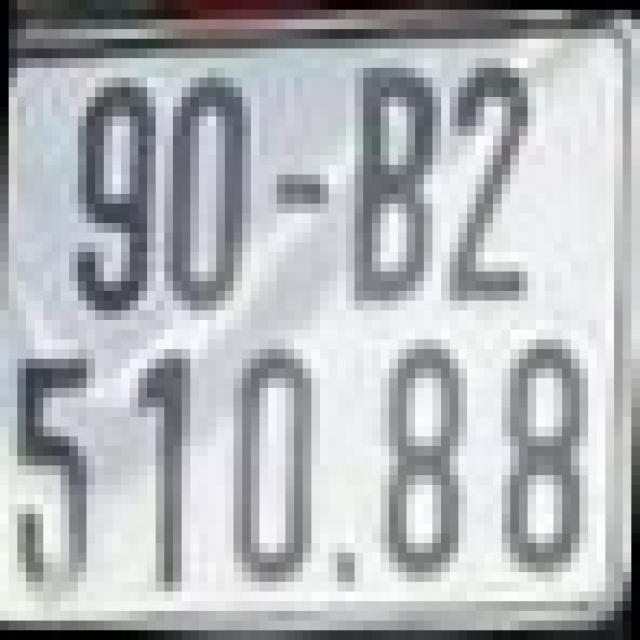0: (164, 77, 251, 310), (234, 349, 320, 582)
1: (130, 349, 199, 592)
2: (449, 58, 536, 301)
5: (9, 349, 96, 592)
8: (380, 339, 468, 582), (502, 340, 588, 572)
9: (69, 77, 156, 310)
B: (346, 58, 441, 310)
